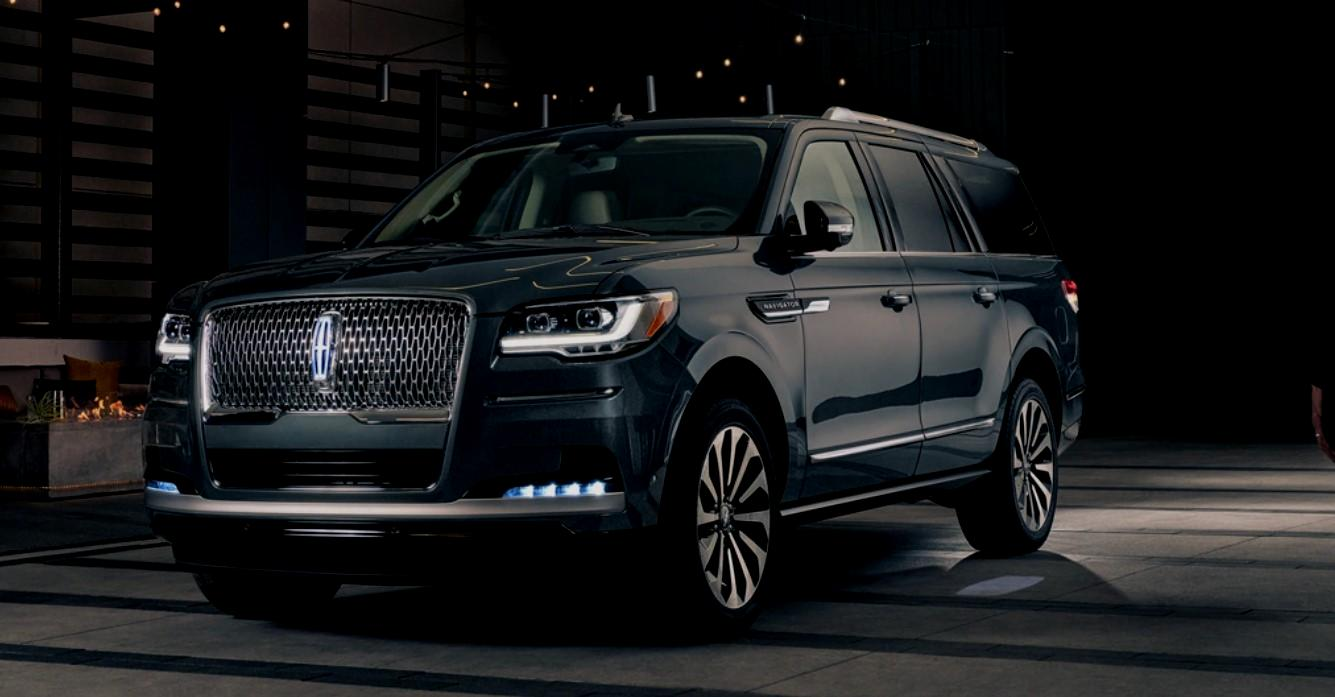lincoln: (301, 302, 351, 400)
